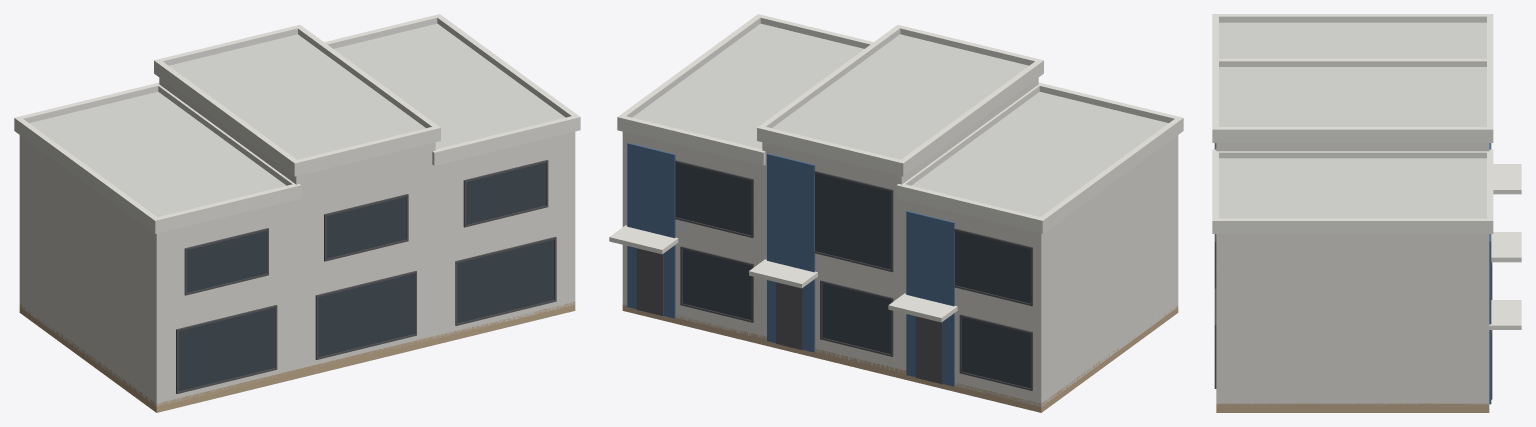
Rendered from ca_townhouse_b.glb.
3 renders of one model, left to right at view 1: azimuth 30°, elevation 25°; view 2: azimuth 150°, elevation 25°; view 3: azimuth 270°, elevation 25°, orthographic.
Visible parts, largest first — view 1: ca_townhouse_b; view 2: ca_townhouse_b; view 3: ca_townhouse_b.
Part boxes in pixels (x1,y1,x2,y2): ca_townhouse_b: (14, 14, 580, 412); ca_townhouse_b: (609, 14, 1183, 412); ca_townhouse_b: (1212, 14, 1521, 412).
Bounding box in the file's own units: 15.24 × 7.45 × 9.62.
